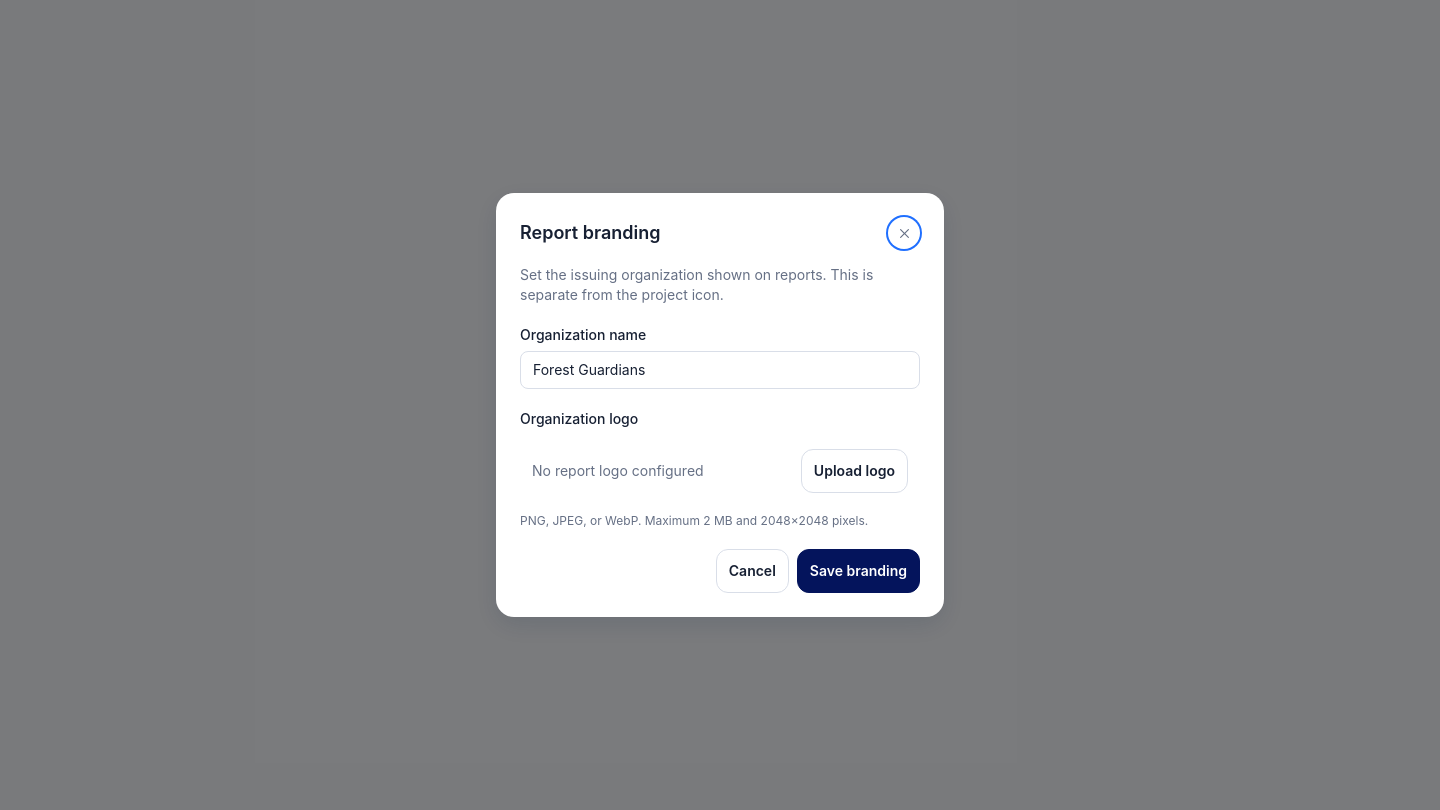
Test: ReportBrandingDialog › shows a save error when persistence rejects
The image size is (1440, 810).
Click the button "Save branding" at [858, 571], box [797,549,920,593]
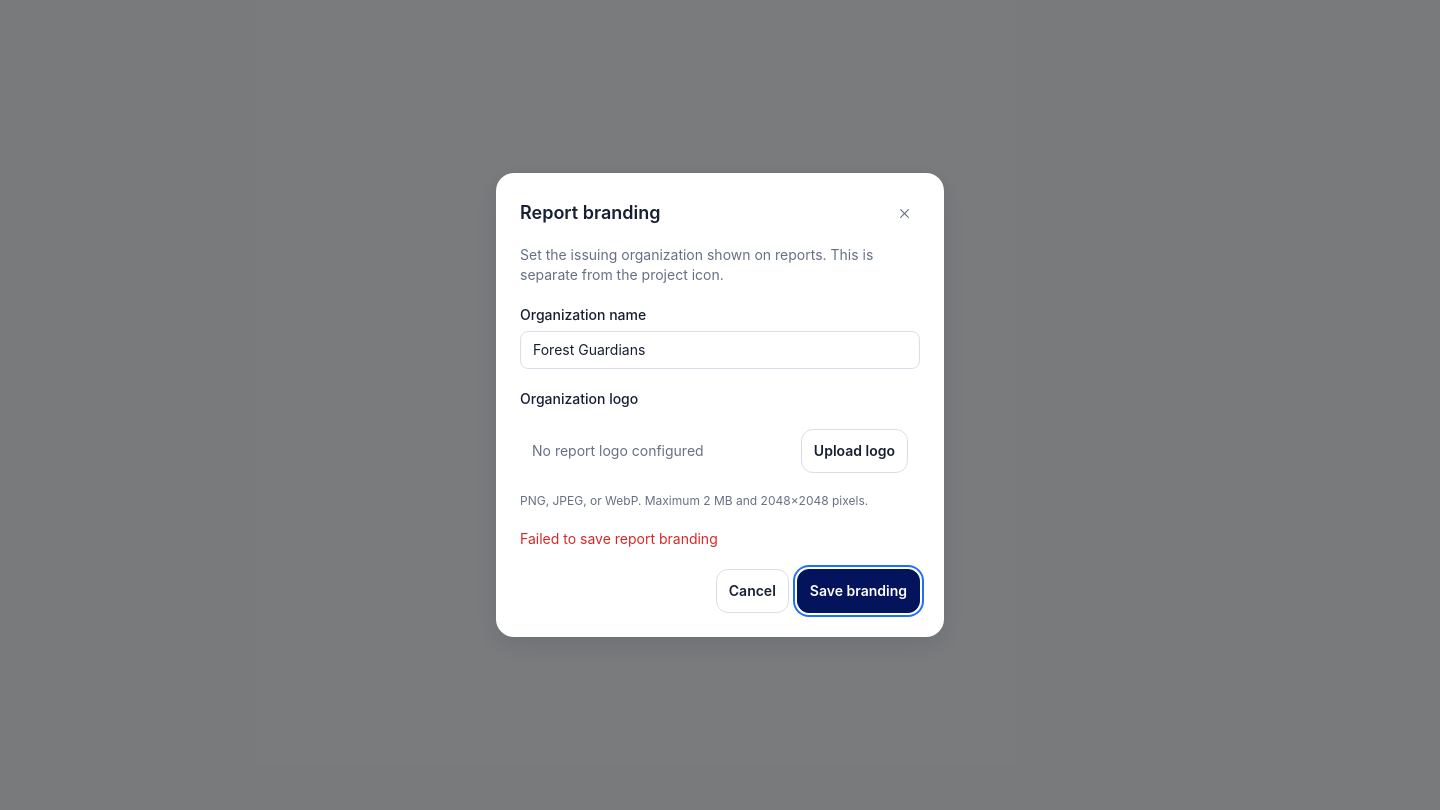
Now the message reads "Failed to save report branding", box [520,530,718,547]
